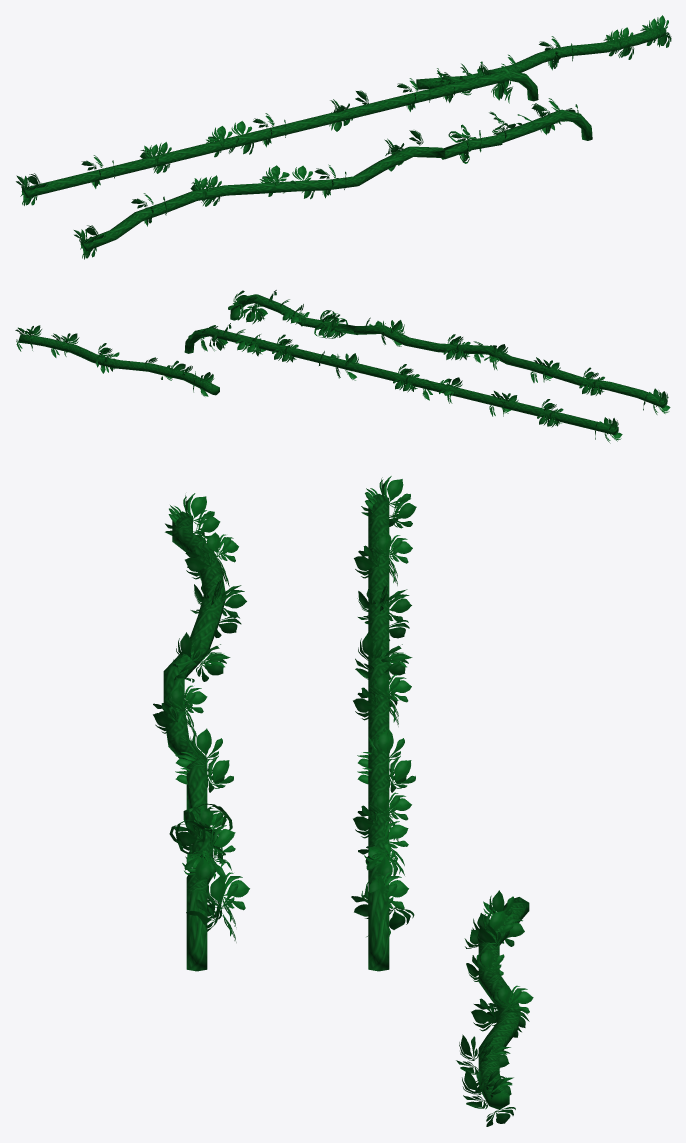
The model's file is vINES.fbx.
3 renders of one model, top to bottom at view 1: azimuth 30°, elevation 25°; view 2: azimuth 150°, elevation 25°; view 3: azimuth 270°, elevation 25°, orthographic. The views are drawn at different scales.
Parts seen in each view (by area): view 1: Plane.001, Plane.003, Plane.059; view 2: Plane.001, Plane.003, Plane.059; view 3: Plane.001, Plane.003, Plane.059.
Boxes of the visible parts, left/top/right/bottom form: Plane.001: left=74, top=98, right=592, bottom=259; Plane.003: left=16, top=63, right=538, bottom=205; Plane.059: left=416, top=15, right=671, bottom=95; Plane.001: left=228, top=290, right=670, bottom=414; Plane.003: left=184, top=323, right=622, bottom=443; Plane.059: left=15, top=325, right=219, bottom=396; Plane.001: left=153, top=493, right=249, bottom=971; Plane.003: left=351, top=476, right=416, bottom=971; Plane.059: left=456, top=890, right=533, bottom=1126.
Size of the model in its own units: 9222 by 821 by 2679.
